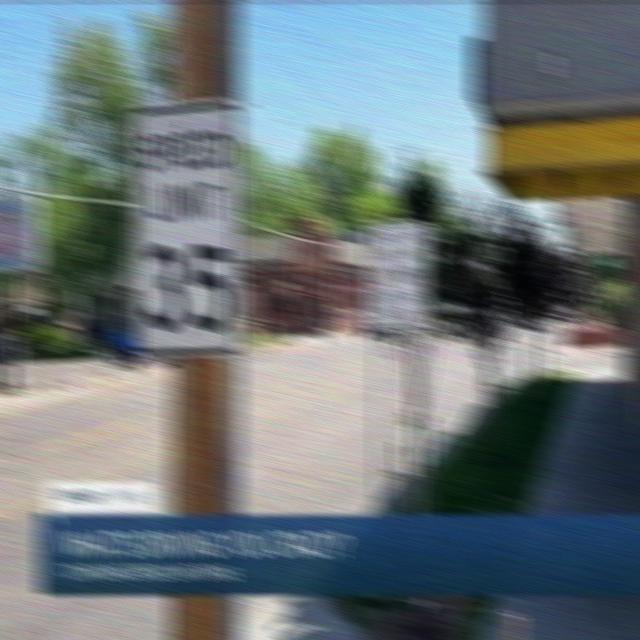speedLimit35: (130, 101, 248, 366)
